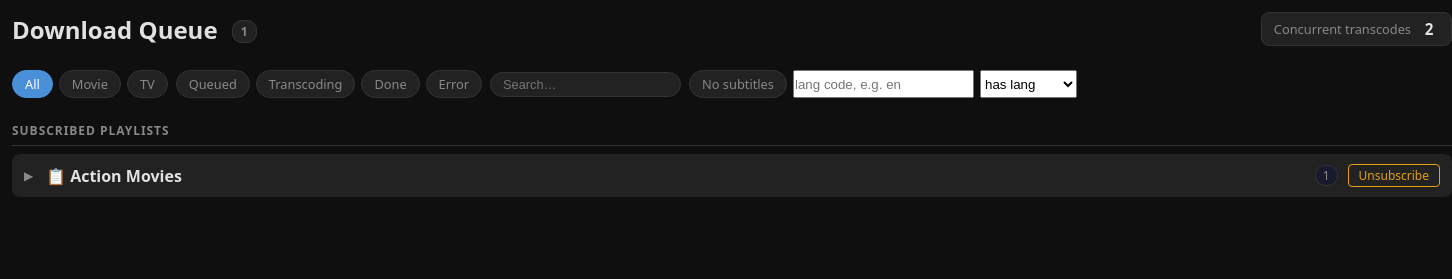
Test: QueueView › click playlist group header expands items
The width and height of the screenshot is (1452, 279).
What coordinates should you click on to do the following:
click the element with test id "group-header-playlist-5"
I would click on:
 (732, 176)
Its box is [12, 154, 1451, 197].
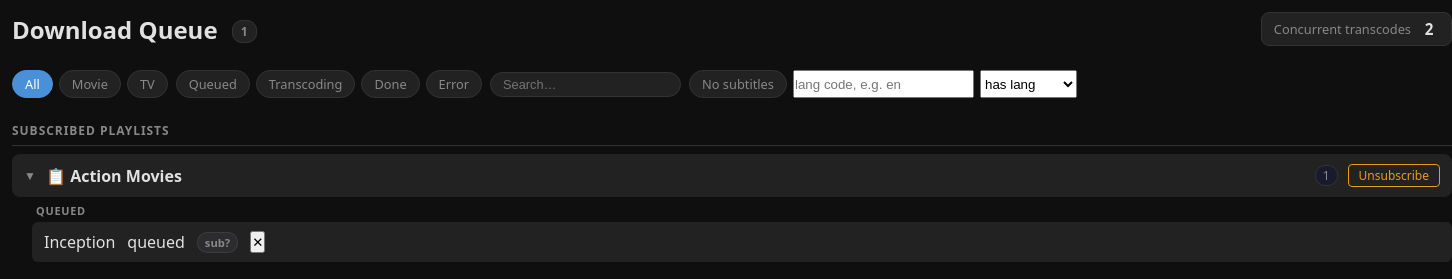
Result: the number of elements with test id "queue-item-row" is 1 at [32, 222, 1451, 262]
